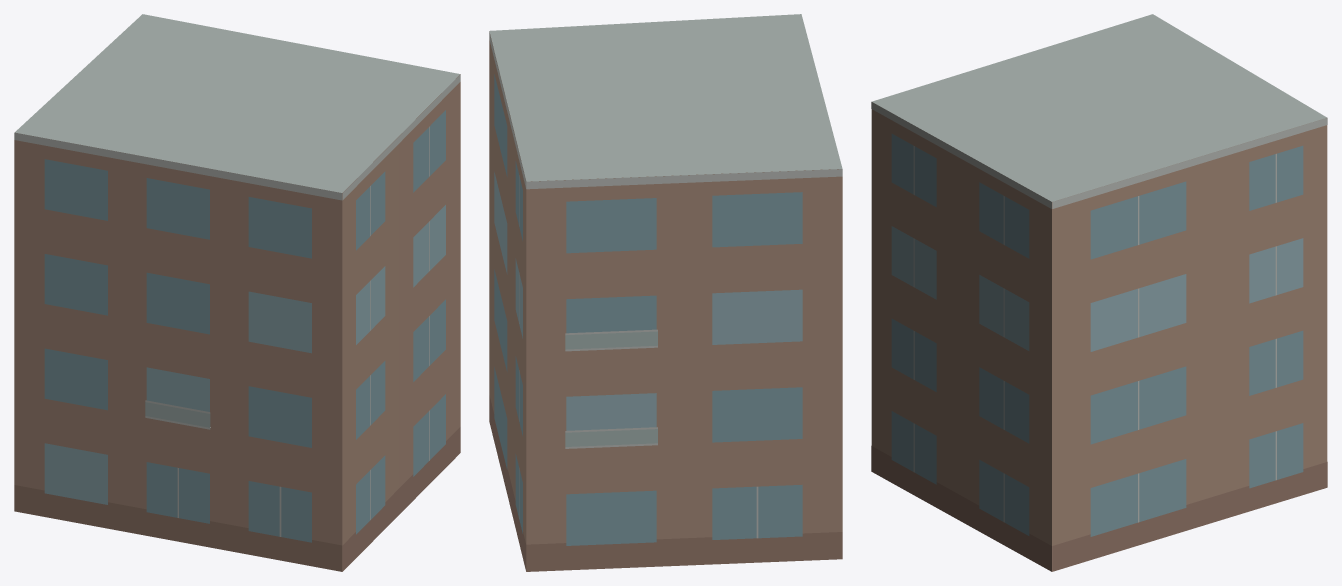
The model's file is survey-upis-32630827.glb.
3 renders of one model, left to right at view 1: azimuth 30°, elevation 25°; view 2: azimuth 150°, elevation 25°; view 3: azimuth 270°, elevation 25°, orthographic. The views are drawn at different scales.
Parts seen in each view (by area): view 1: survey-upis-32630827.tmp; view 2: survey-upis-32630827.tmp; view 3: survey-upis-32630827.tmp.
Part boxes in pixels (box(x1,y1,x2,y2)): survey-upis-32630827.tmp: box(14, 14, 460, 571); survey-upis-32630827.tmp: box(489, 14, 842, 571); survey-upis-32630827.tmp: box(871, 14, 1327, 571).
Size of the model in its own units: 13.52 by 12.4 by 13.86.
